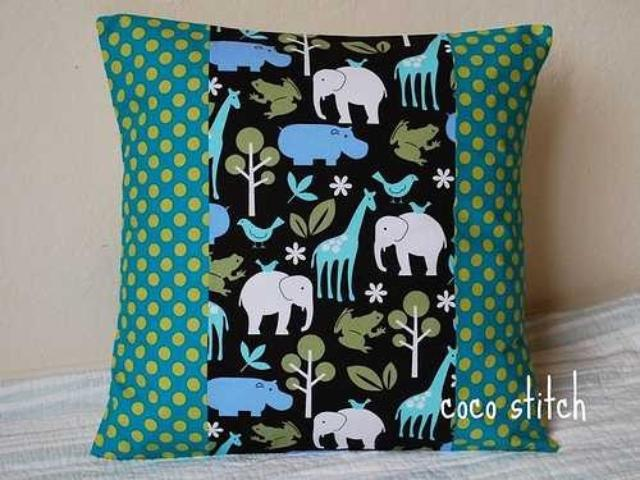pillow: (90, 12, 558, 460)
